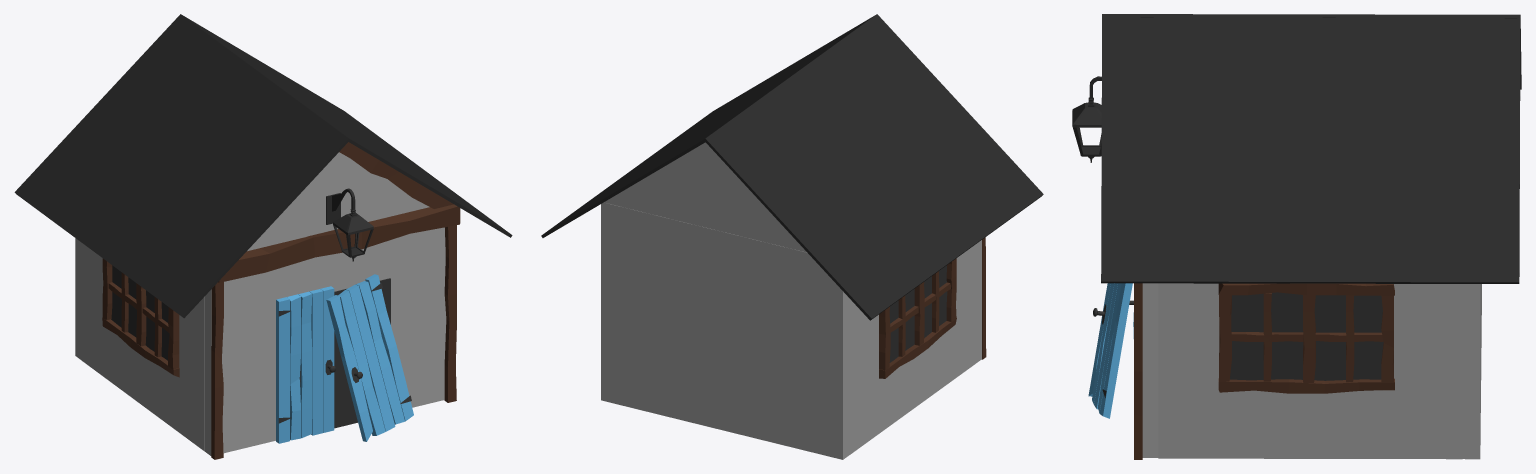
Rendered from Haus_3_z.fbx.
3 renders of one model, left to right at view 1: azimuth 30°, elevation 25°; view 2: azimuth 150°, elevation 25°; view 3: azimuth 270°, elevation 25°, orthographic. The views are drawn at different scales.
Parts seen in each view (by area): view 1: Wand_V; view 2: Wand_V; view 3: Wand_V.
Boxes of the visible parts, x1,y1,x2,y2 form: Wand_V: (14, 14, 512, 459); Wand_V: (541, 14, 1043, 459); Wand_V: (1072, 14, 1521, 459).
Size of the model in its own units: 311 by 273 by 296.
